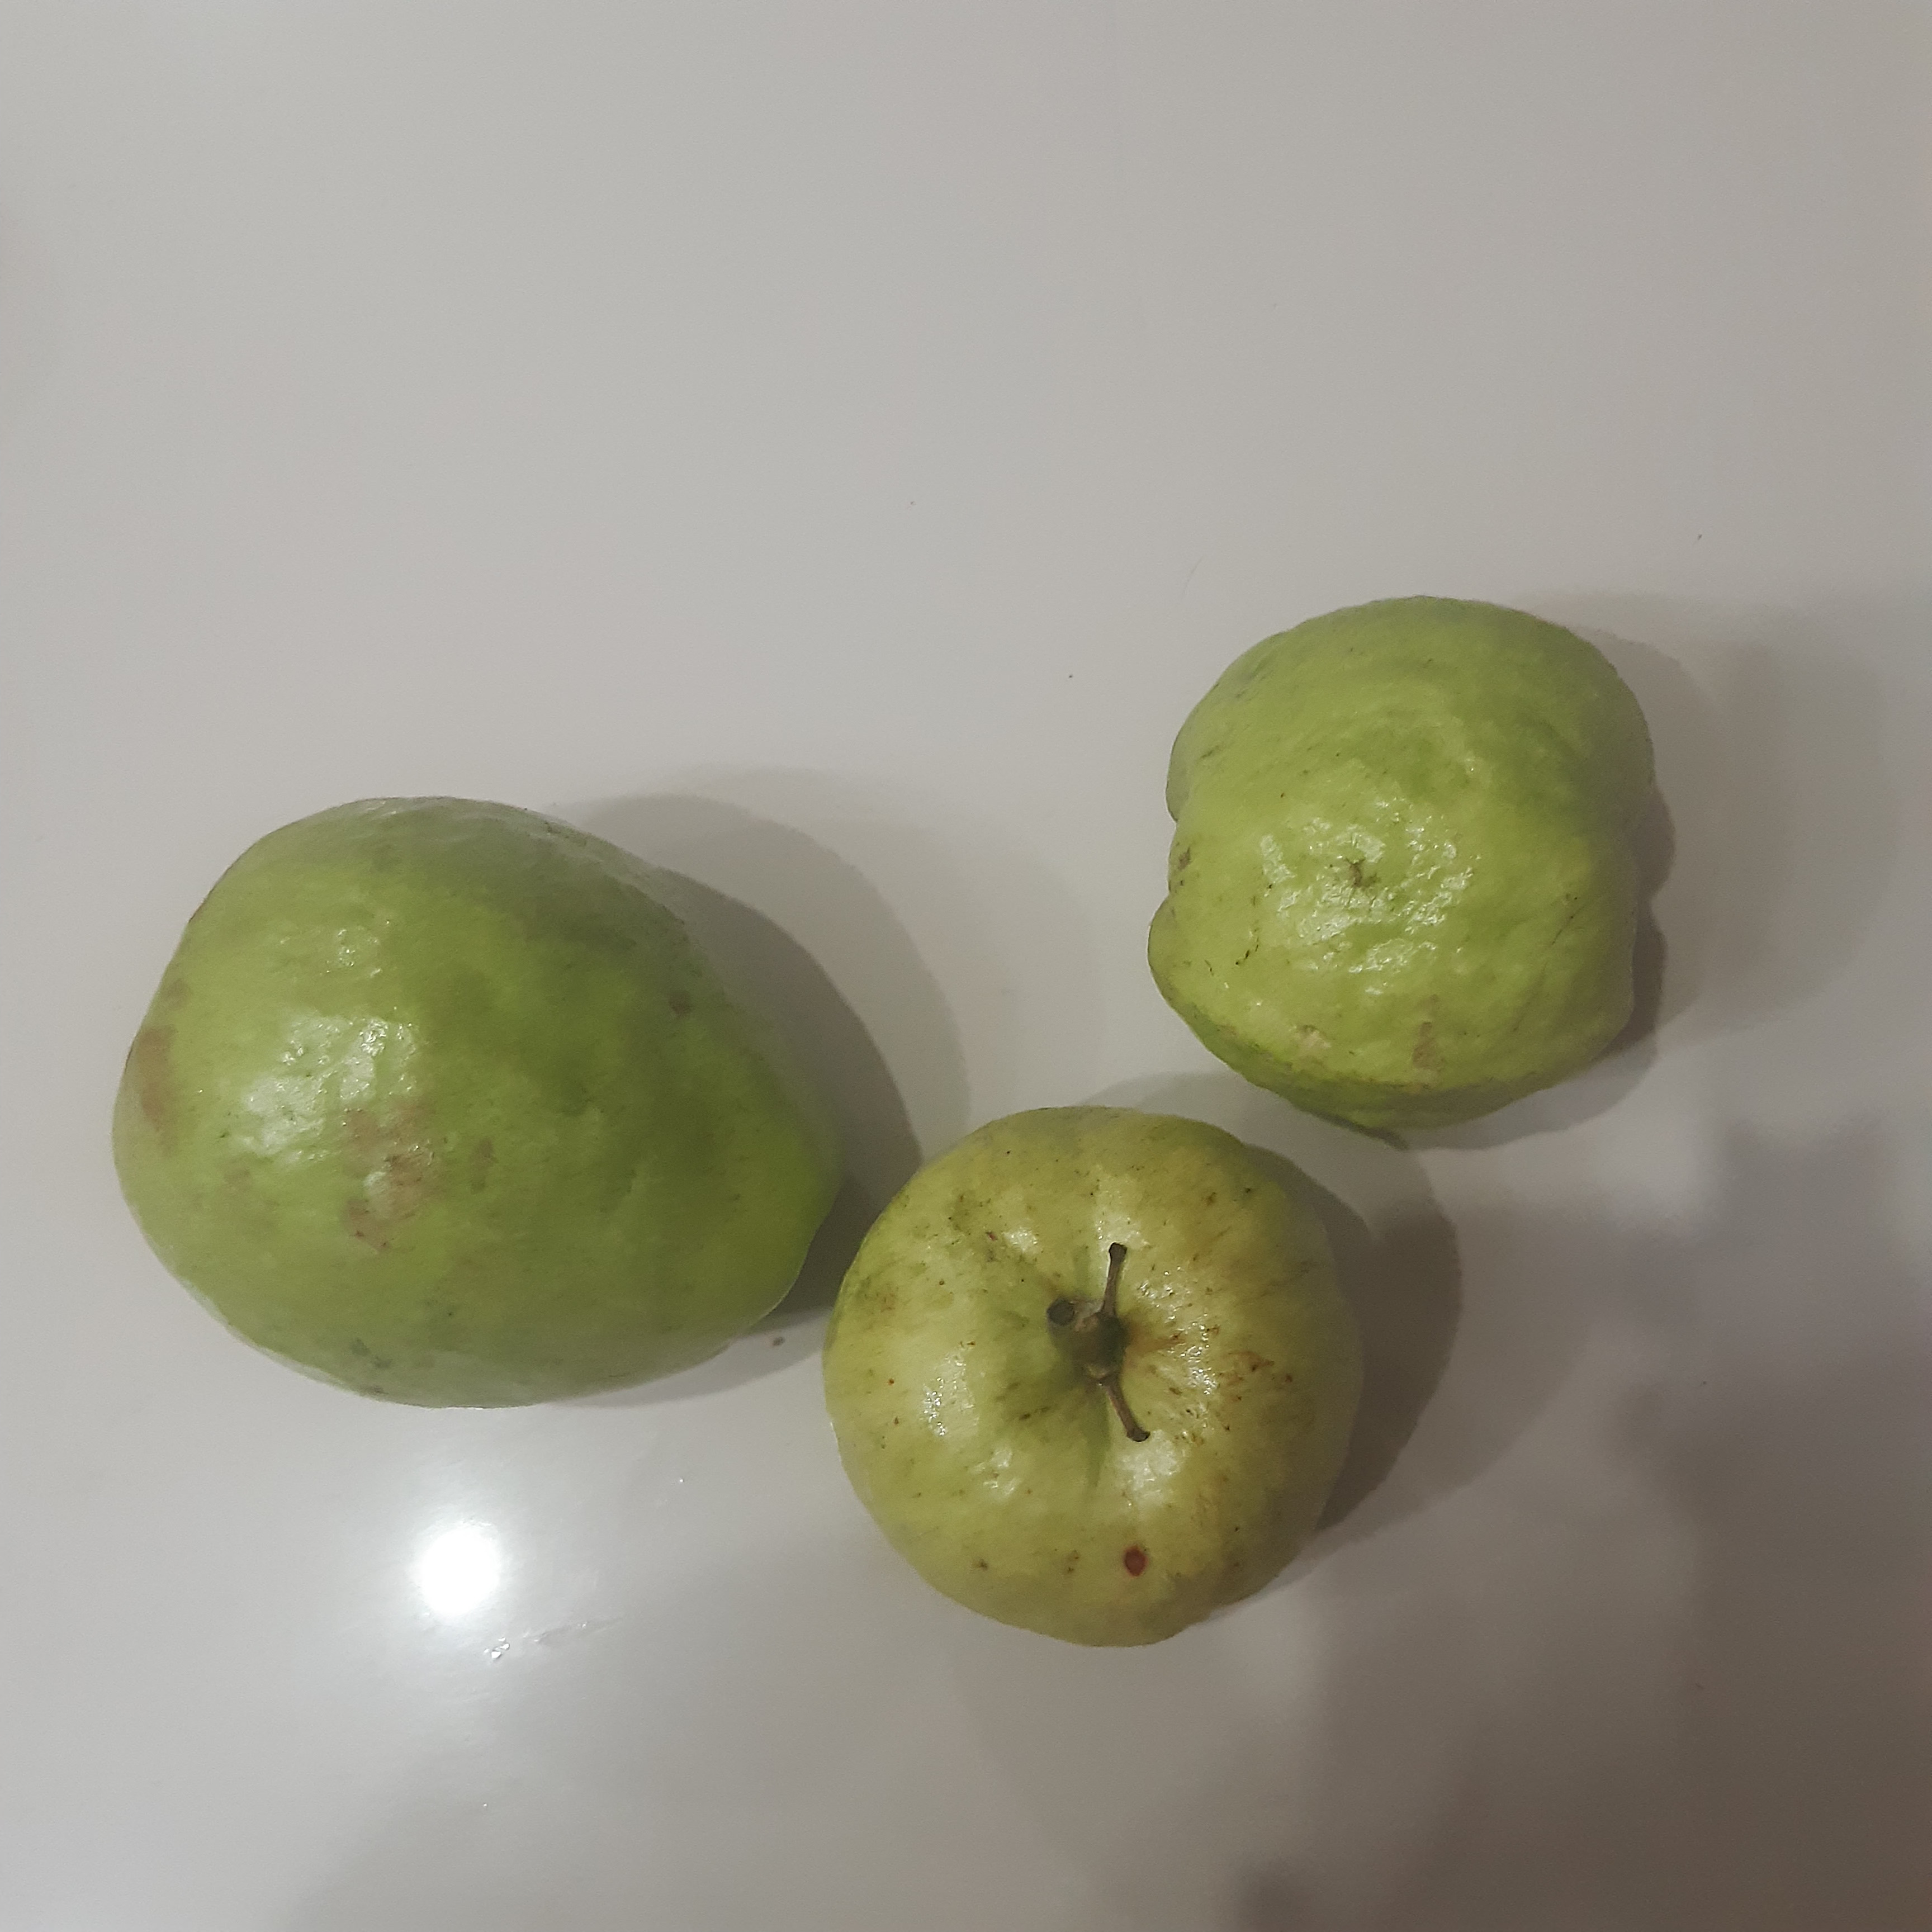Oi: (111, 794, 840, 1410), (819, 1104, 1369, 1652), (1148, 593, 1658, 1127)
